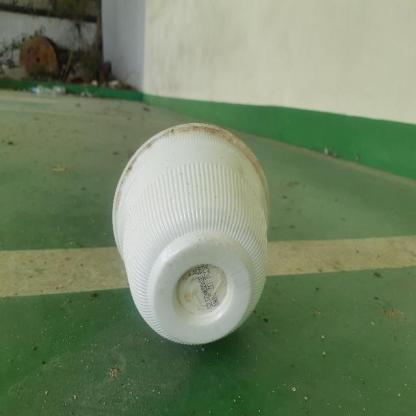Glass Cup: (112, 121, 269, 345), (112, 123, 270, 344)
